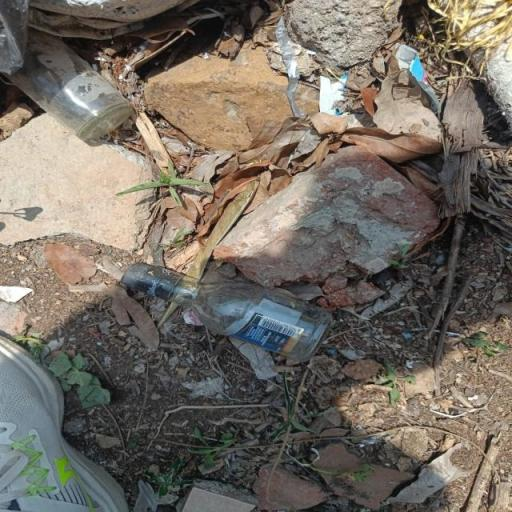glass: (104, 258, 352, 368), (4, 22, 134, 145)
